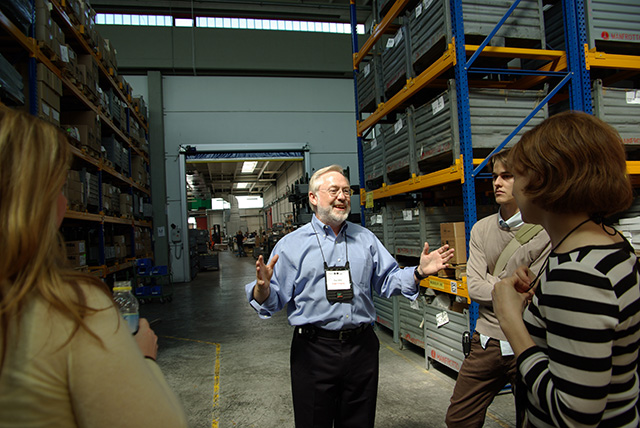noepi: (2, 111, 195, 427), (249, 166, 442, 427), (508, 111, 638, 428), (443, 139, 556, 421)
